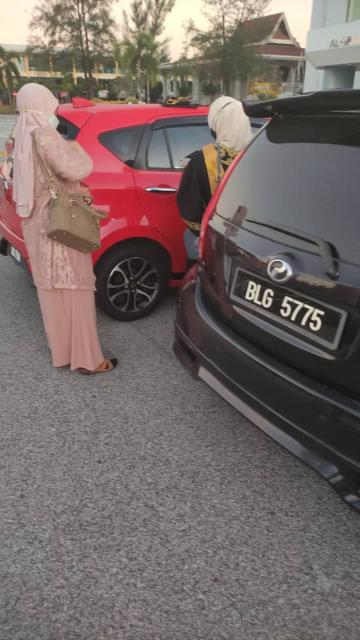License_Plate: (237, 266, 336, 345)
car: (173, 86, 360, 501)
